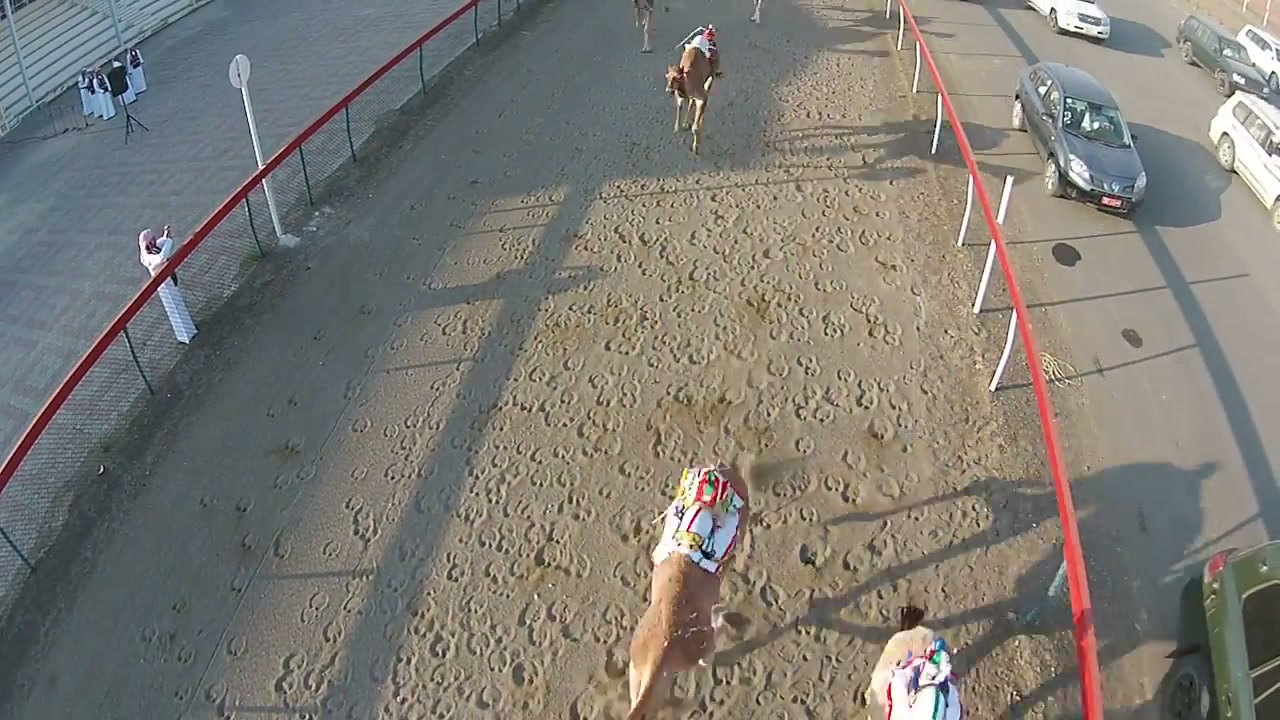animal_footprint: (59, 7, 1055, 719)
